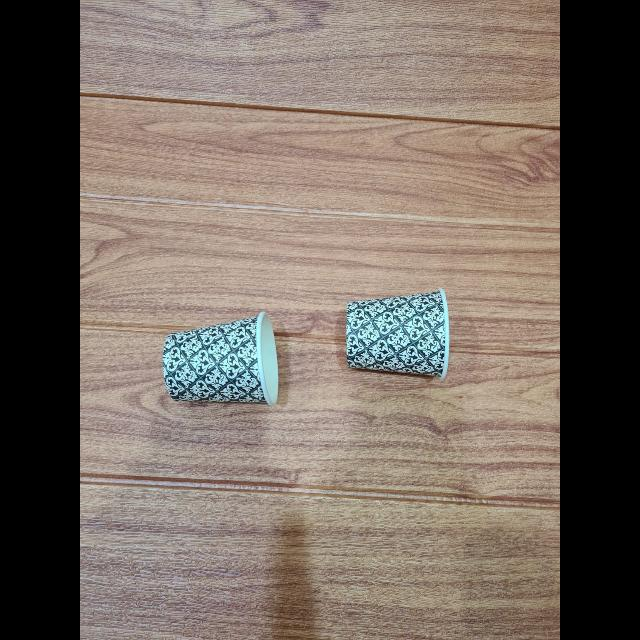trash: (166, 311, 284, 414), (343, 288, 453, 372)
